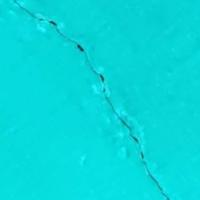crack: (11, 0, 168, 195)
